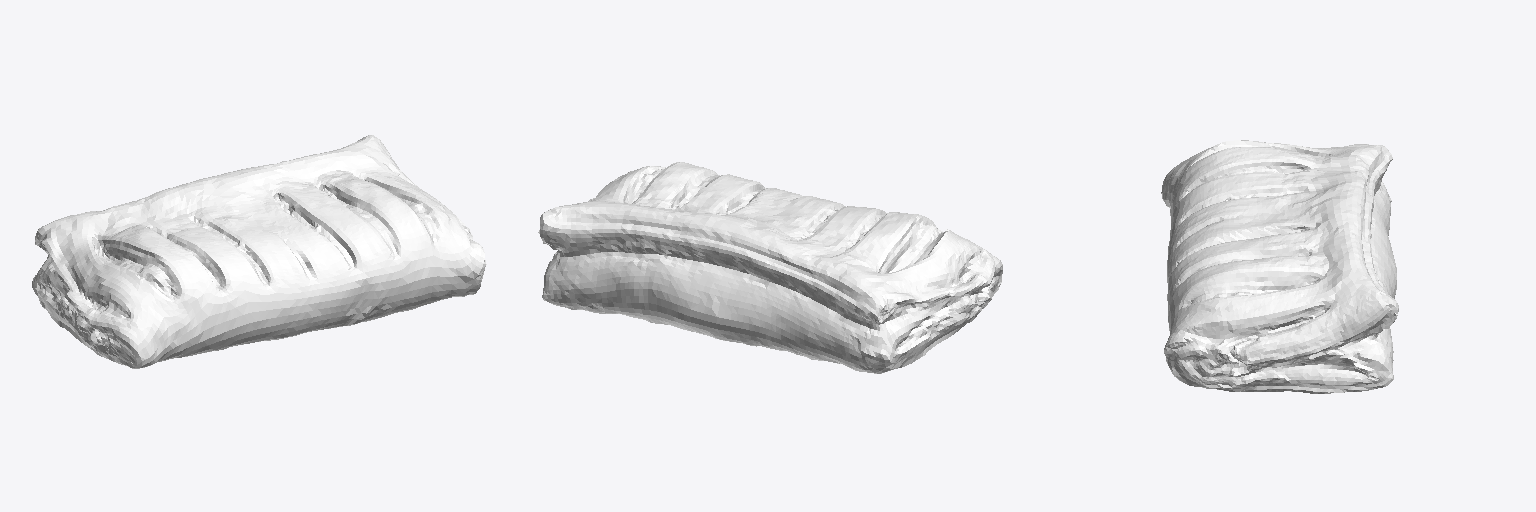
Rendered from AppleStrudel.obj.
3 renders of one model, left to right at view 1: azimuth 30°, elevation 25°; view 2: azimuth 150°, elevation 25°; view 3: azimuth 270°, elevation 25°, orthographic.
Visible parts, largest first — view 1: AppleStrudel.obj; view 2: AppleStrudel.obj; view 3: AppleStrudel.obj.
Boxes of the visible parts, x1,y1,x2,y2 form: AppleStrudel.obj: [32, 135, 486, 368]; AppleStrudel.obj: [538, 162, 1002, 373]; AppleStrudel.obj: [1161, 140, 1398, 393].
Bounding box in the file's own units: 0.25 × 0.0684 × 0.1317.